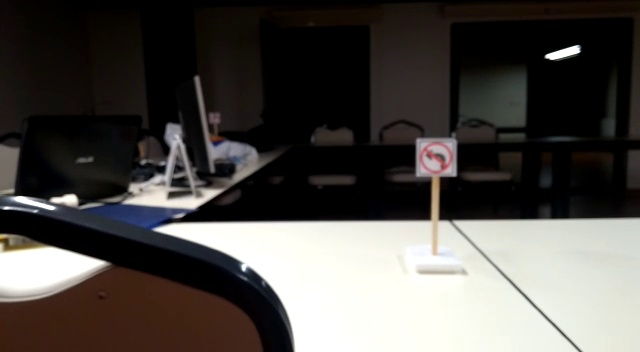sola_donulmez: (419, 135, 458, 174)
